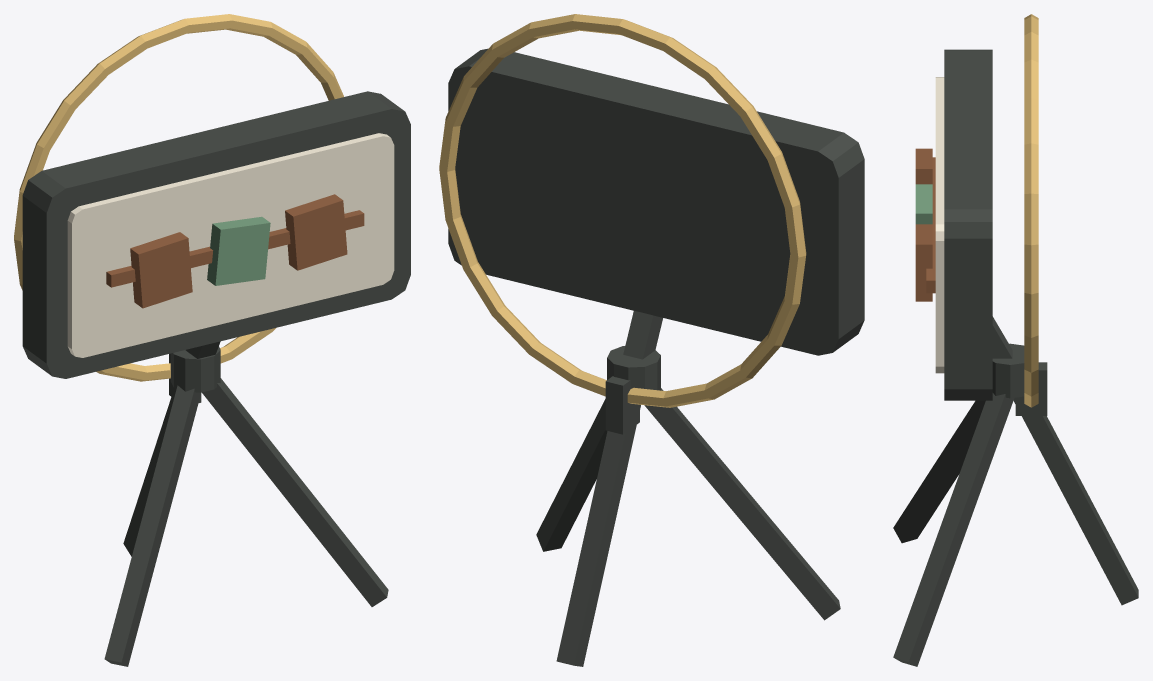
The model's file is promo-blogger.glb.
The picture shows the model from 3 angles, left to right: view 1: azimuth 30°, elevation 25°; view 2: azimuth 150°, elevation 25°; view 3: azimuth 270°, elevation 25°; orthographic projection. The views are drawn at different scales.
Visible parts, largest first — view 1: promo-blogger; view 2: promo-blogger; view 3: promo-blogger.
Boxes of the visible parts, x1=… form: promo-blogger: x1=14, y1=14, x2=410, y2=666; promo-blogger: x1=439, y1=14, x2=864, y2=666; promo-blogger: x1=893, y1=14, x2=1138, y2=666.
Bounding box in the file's own units: 0.4 × 0.5994 × 0.2336.
